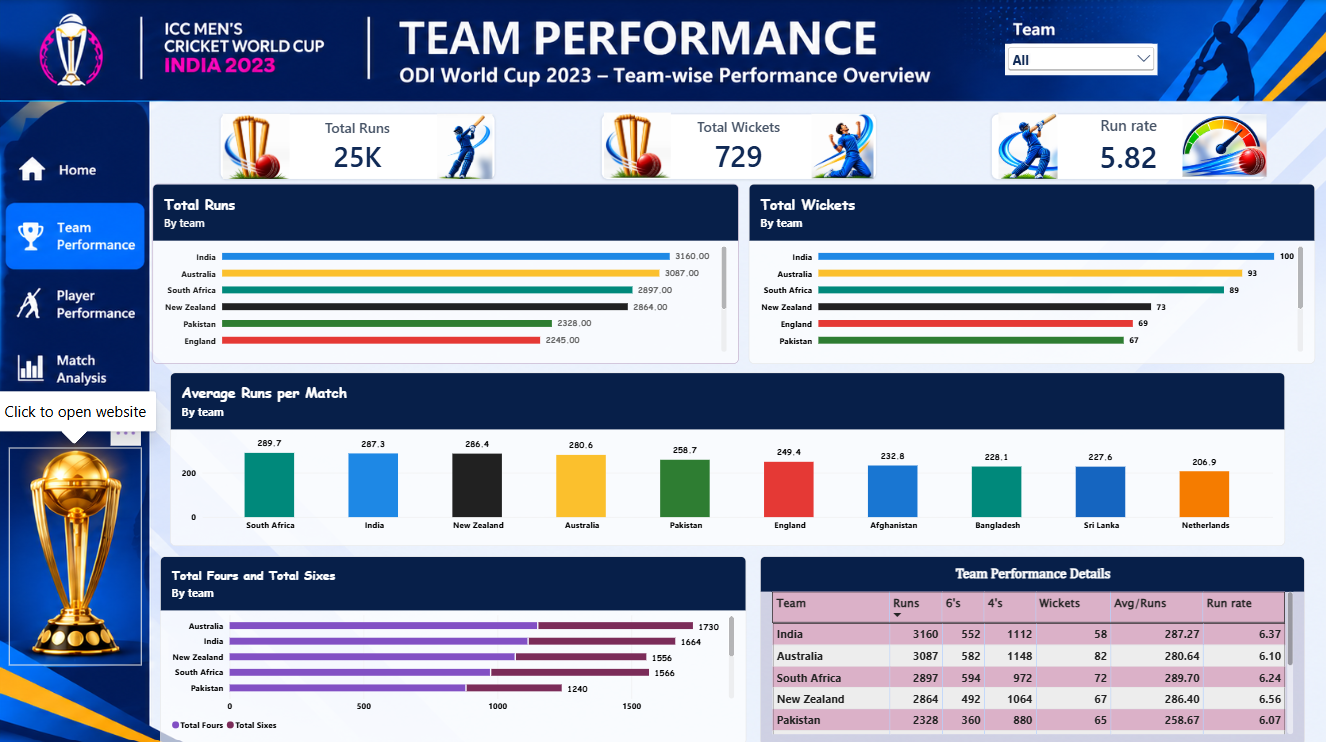

The dashboard page shown, as its layout file describes it:
{"tool":"powerbi","page":{"name":"TEAM PERFORMANCE ","canvas":[1920,1080],"ordinal":1},"visuals":[{"type":"clusteredBarChart","title":"Total Runs","fields":{"Category":["ODI 2023.batting_team"],"Y":["ODI 2023.Total Runs"]},"box":[220.8,266,848.7,260.6],"z":0},{"type":"clusteredBarChart","title":"Total Wickets","fields":{"Category":["ODI 2023.bowling_team"],"Y":["ODI 2023.Total Wickets"]},"box":[1084,266,819.8,260.6],"z":1000},{"type":"clusteredColumnChart","title":"Average Runs per Match","fields":{"Category":["ODI 2023.batting_team"],"Y":["ODI 2023.Average Runs per Match"]},"box":[246.1,539.3,1614.2,251.5],"z":2000},{"type":"barChart","title":"Total Fours and Total Sixes ","fields":{"Category":["ODI 2023.batting_team"],"Y":["ODI 2023.Total Fours","ODI 2023.Total Sixs"]},"box":[231.6,805.3,848.7,275.1],"z":3000},{"type":"tableEx","title":"Team Performance Details","fields":{"Values":["Teams.Team","ODI 2023.Total Runs","ODI 2023.Total Sixes","ODI 2023.Total Fours","ODI 2023.Total Wickets","ODI 2023.Average Runs per Match","ODI 2023.Run rate2"]},"box":[1100.3,805.3,789,275.1],"z":4000},{"type":"shape","box":[12.7,209.9,191.8,72.4],"z":5000},{"type":"shape","box":[12.7,405.4,191.8,76],"z":6000},{"type":"shape","box":[12.7,503.1,191.8,72.4],"z":7000},{"type":"shape","box":[12.7,647.9,191.8,314.9],"z":8000},{"type":"slicer","fields":{"Values":["ODI 2023.batting_team"]},"box":[1455,63.3,220.8,45.2],"z":9000},{"type":"cardVisual","fields":{"Data":["ODI 2023.Total Runs"]},"box":[318,164.7,398.1,95],"z":10000},{"type":"image","box":[615.3,164.7,115.8,94.1],"z":11000},{"type":"image","box":[318.5,164.7,105,94.1],"z":12000},{"type":"cardVisual","fields":{"Data":["ODI 2023.Total Wickets"]},"box":[870.4,164.7,398.1,95],"z":13000},{"type":"cardVisual","fields":{"Data":["ODI 2023.Run rate"]},"box":[1435.1,164.7,398.1,95],"z":14000},{"type":"image","box":[870.4,162.9,105,94.1],"z":15000},{"type":"image","box":[1158.2,164.7,123.1,94.1],"z":16000},{"type":"image","box":[1435.1,162.9,106.8,95.9],"z":17000},{"type":"image","box":[1711.9,164.7,121.2,92.3],"z":18000}]}

Visuals, with their boxes on the page's 1920x1080 design canvas (x1, y1, x2, y2). These are canvas units, not pixel positions in the 1326x742 screenshot, which may show the page scaled, cropped or inside an application window:
"Total Runs" clusteredBarChart: l=221, t=266, r=1070, b=527
"Total Wickets" clusteredBarChart: l=1084, t=266, r=1904, b=527
"Average Runs per Match" clusteredColumnChart: l=246, t=539, r=1860, b=791
"Total Fours and Total Sixes " barChart: l=232, t=805, r=1080, b=1080
"Team Performance Details" tableEx: l=1100, t=805, r=1889, b=1080
shape: l=13, t=210, r=204, b=282
shape: l=13, t=405, r=204, b=481
shape: l=13, t=503, r=204, b=576
shape: l=13, t=648, r=204, b=963
slicer - ODI 2023.batting_team: l=1455, t=63, r=1676, b=108
cardVisual - ODI 2023.Total Runs: l=318, t=165, r=716, b=260
image: l=615, t=165, r=731, b=259
image: l=318, t=165, r=424, b=259
cardVisual - ODI 2023.Total Wickets: l=870, t=165, r=1268, b=260
cardVisual - ODI 2023.Run rate: l=1435, t=165, r=1833, b=260
image: l=870, t=163, r=975, b=257
image: l=1158, t=165, r=1281, b=259
image: l=1435, t=163, r=1542, b=259
image: l=1712, t=165, r=1833, b=257
